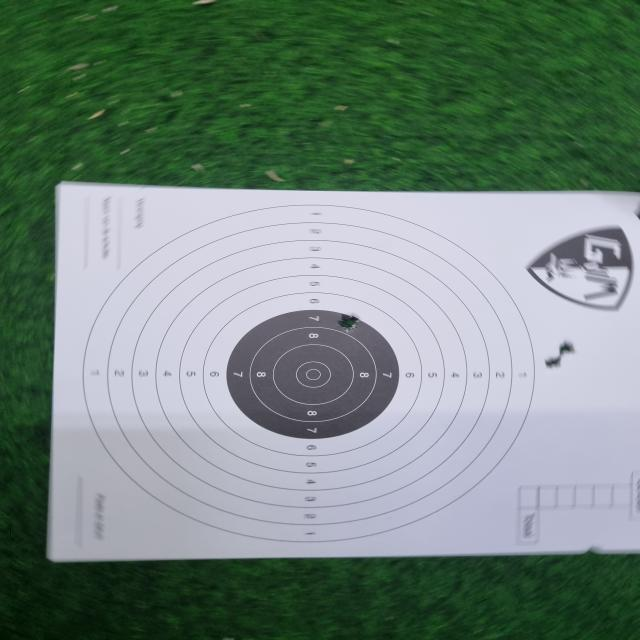0: (558, 340, 576, 356), (544, 356, 562, 370)
7: (337, 313, 359, 333)
Target: (82, 204, 537, 544)
black_contour: (226, 310, 398, 438)
